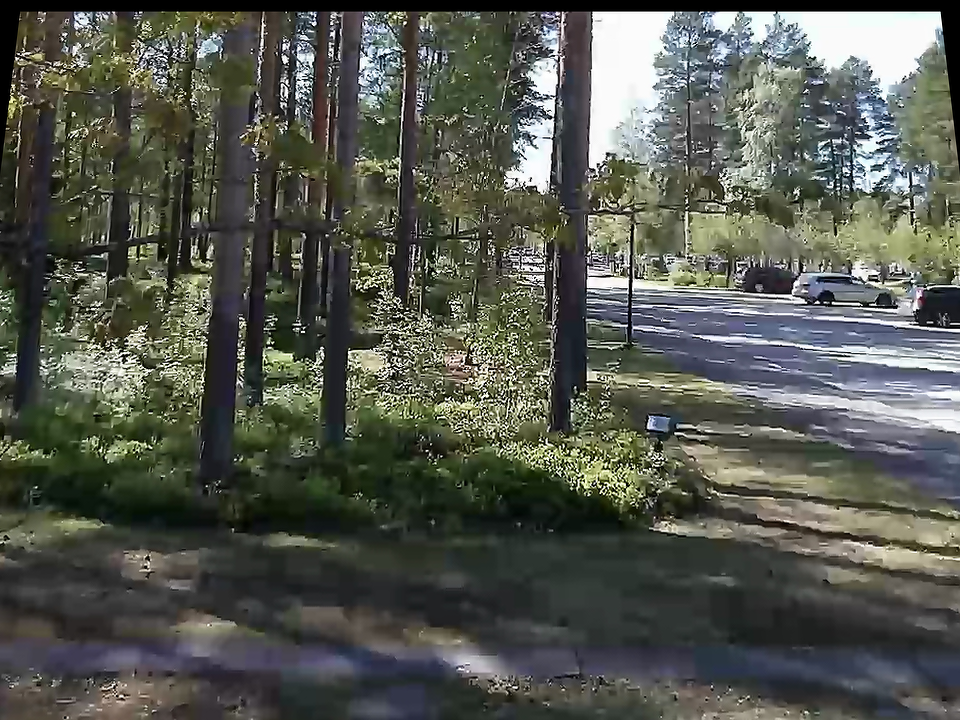branch: (46, 177, 740, 275)
trunk: (199, 33, 262, 487), (542, 35, 600, 444), (322, 29, 366, 452), (107, 22, 145, 319)
